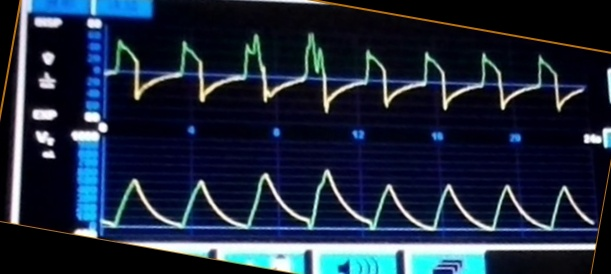Double_Triggering Flow: (114, 31, 536, 118)
Double_Triggering Volume: (104, 168, 543, 234)
